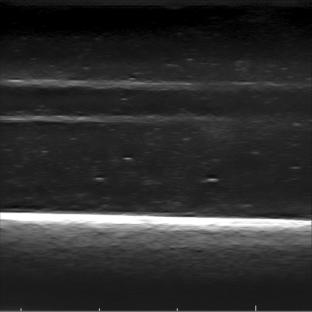vessel: (1, 79, 203, 128)
